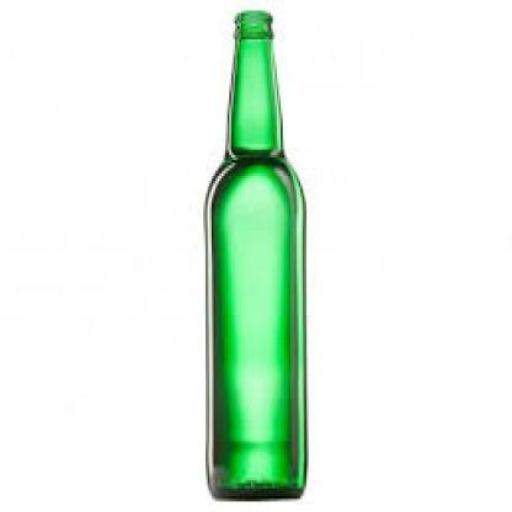glass: (204, 8, 304, 499)
